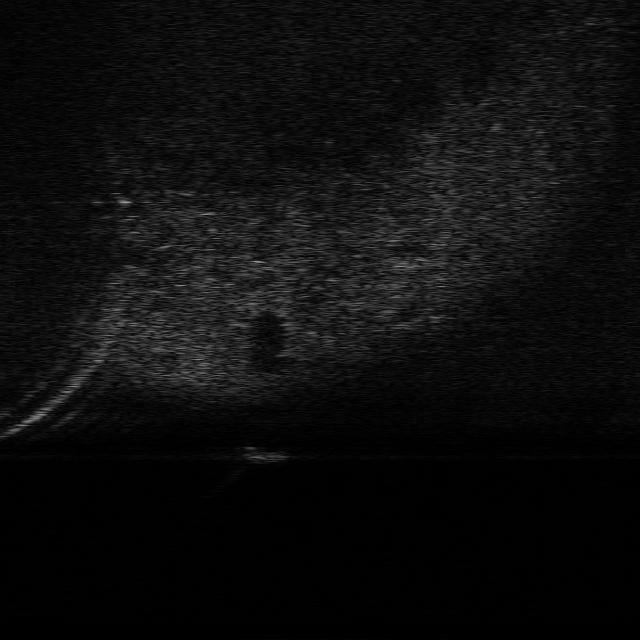cube: (240, 443, 291, 464)
